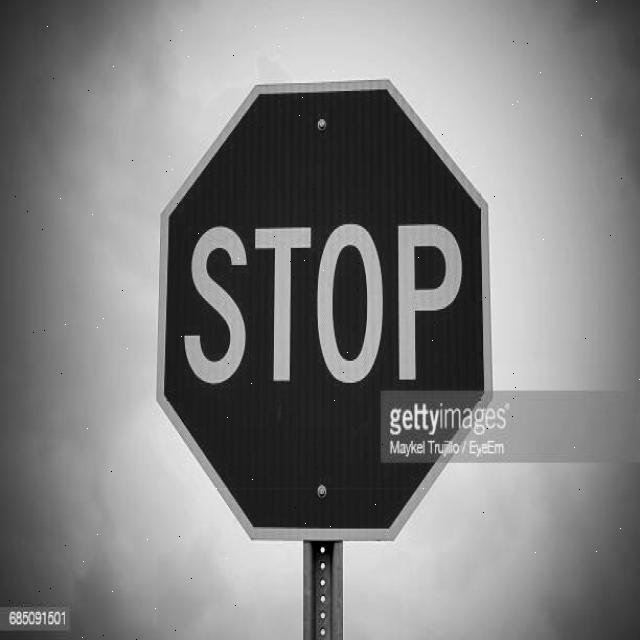Stop-sign: (143, 55, 496, 552)
